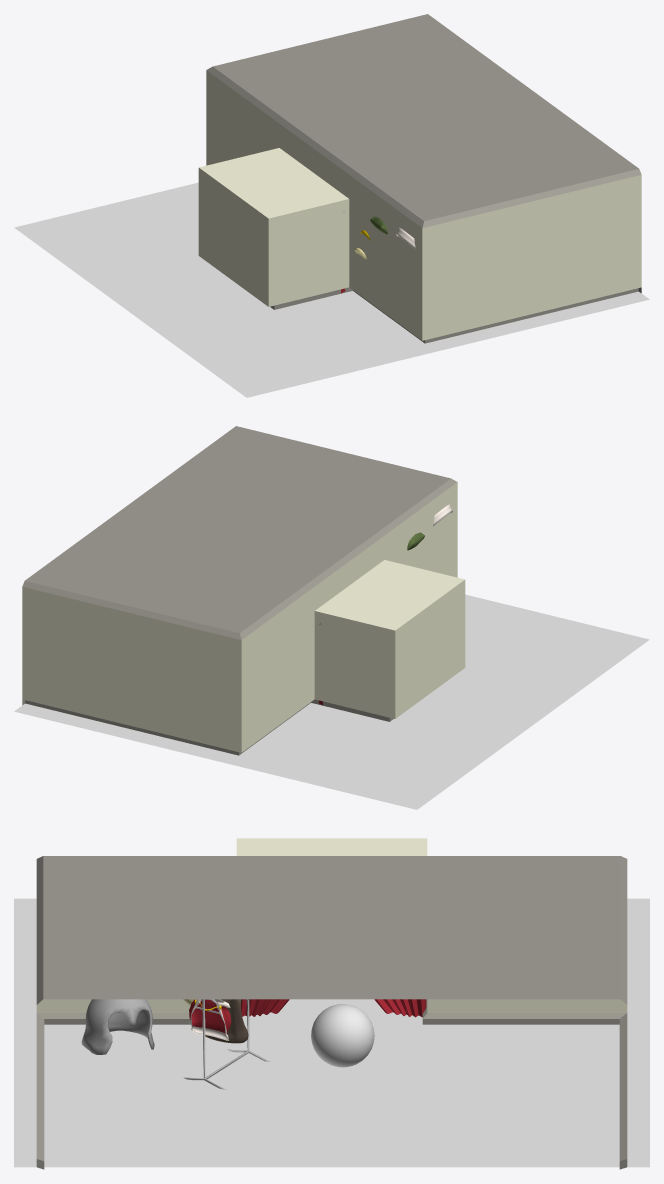
File: Changing Room.fbx
3 renders of one model, top to bottom at view 1: azimuth 30°, elevation 25°; view 2: azimuth 150°, elevation 25°; view 3: azimuth 270°, elevation 25°, orthographic. The views are drawn at different scales.
Visible parts, largest first — view 1: Dressing Room, Ground; view 2: Dressing Room, Ground; view 3: Dressing Room, Ground, Player Ref, Guard Helmet, Curtains, Royal Cloak, Clothing Rack, Hood.
Part boxes in pixels (<box>): Dressing Room: <box>198,14,641,343</box>; Ground: <box>14,182,649,397</box>; Dressing Room: <box>22,426,465,755</box>; Ground: <box>14,594,649,809</box>; Dressing Room: <box>36,838,627,1169</box>; Ground: <box>14,898,649,1167</box>; Player Ref: <box>311,1004,374,1067</box>; Guard Helmet: <box>81,999,154,1054</box>; Curtains: <box>241,999,426,1017</box>; Royal Cloak: <box>189,999,231,1040</box>; Clothing Rack: <box>183,999,270,1089</box>; Hood: <box>205,999,248,1043</box>.
Bounding box in the file's own units: 2000 × 594 × 2000.
